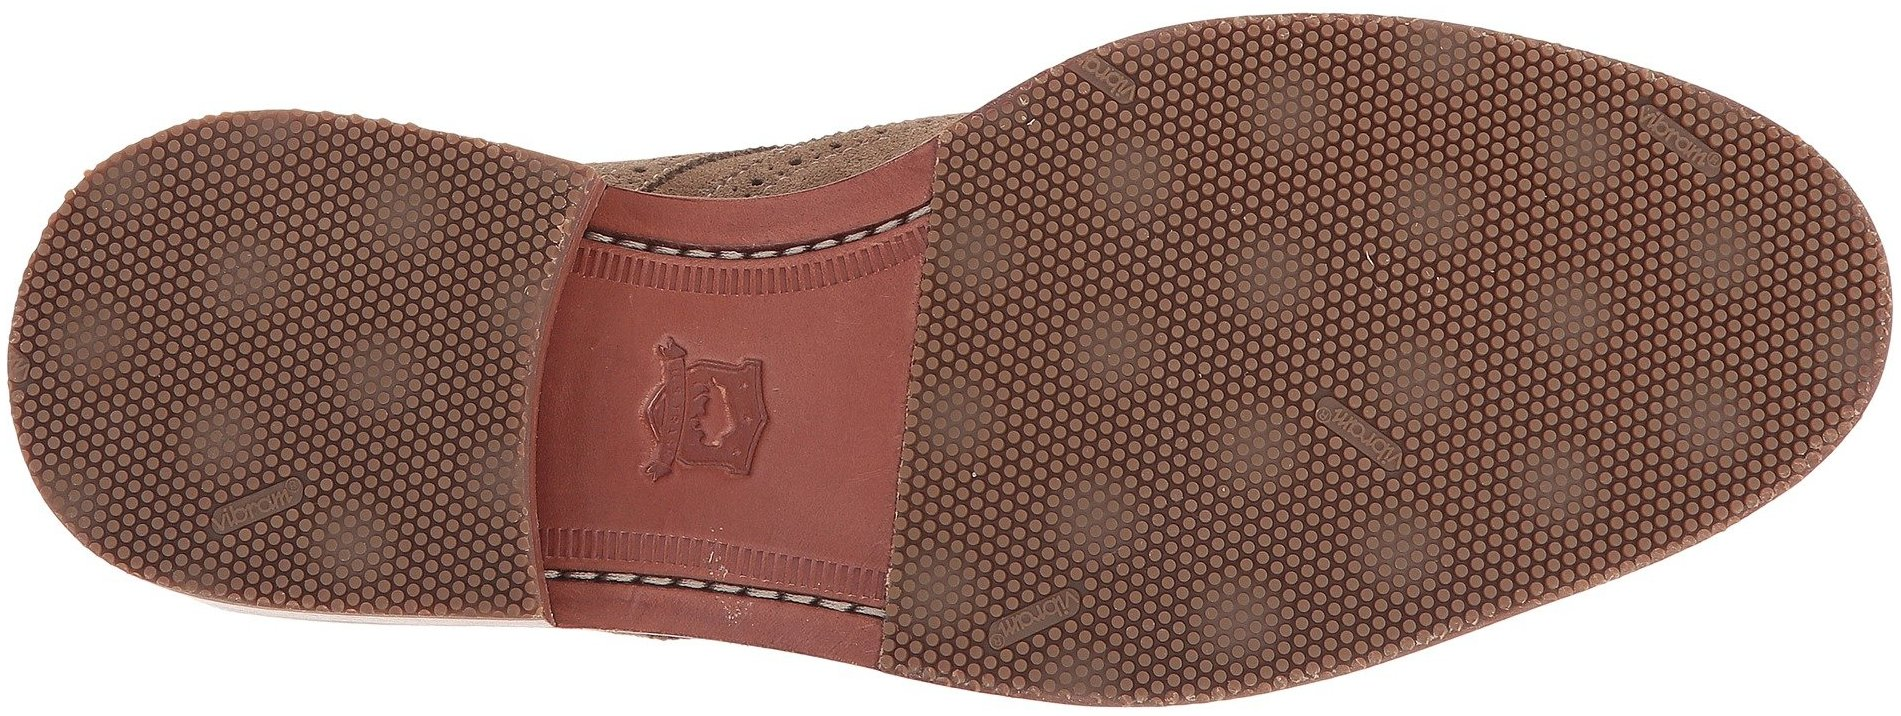circle: (1024, 94, 1732, 519), (82, 181, 510, 597), (919, 526, 1208, 691)
exclude: (529, 104, 966, 671)
quad: (1024, 94, 1732, 519), (82, 181, 510, 597), (919, 526, 1208, 691)
text: (1024, 94, 1732, 519), (82, 181, 510, 597), (919, 526, 1208, 691)
